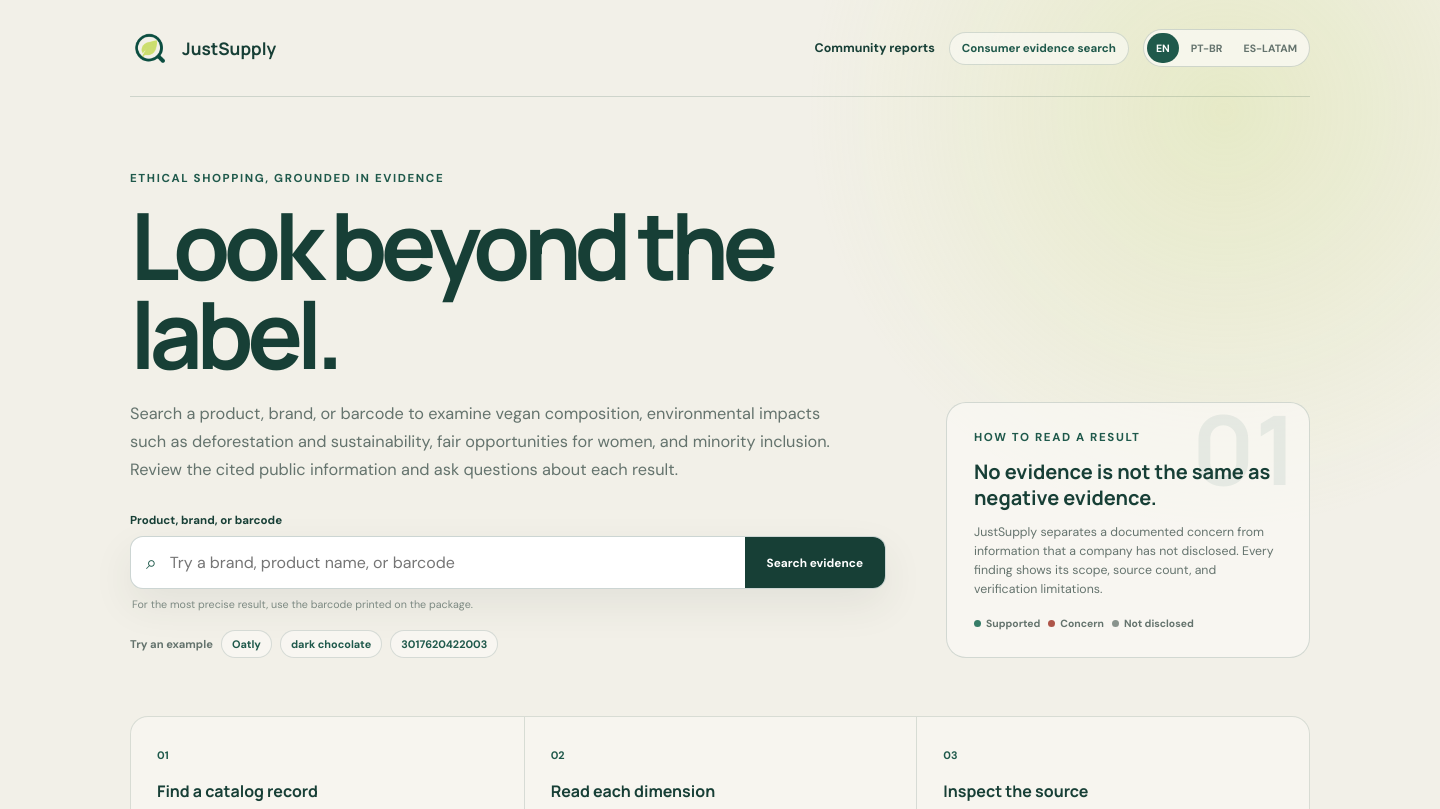
Test case: consumer evidence experience › switches the complete interface to Brazilian Portuguese and Latin American Spanish
Click the button "PT-BR".
click(1207, 48)  # box [1182, 33, 1232, 63]
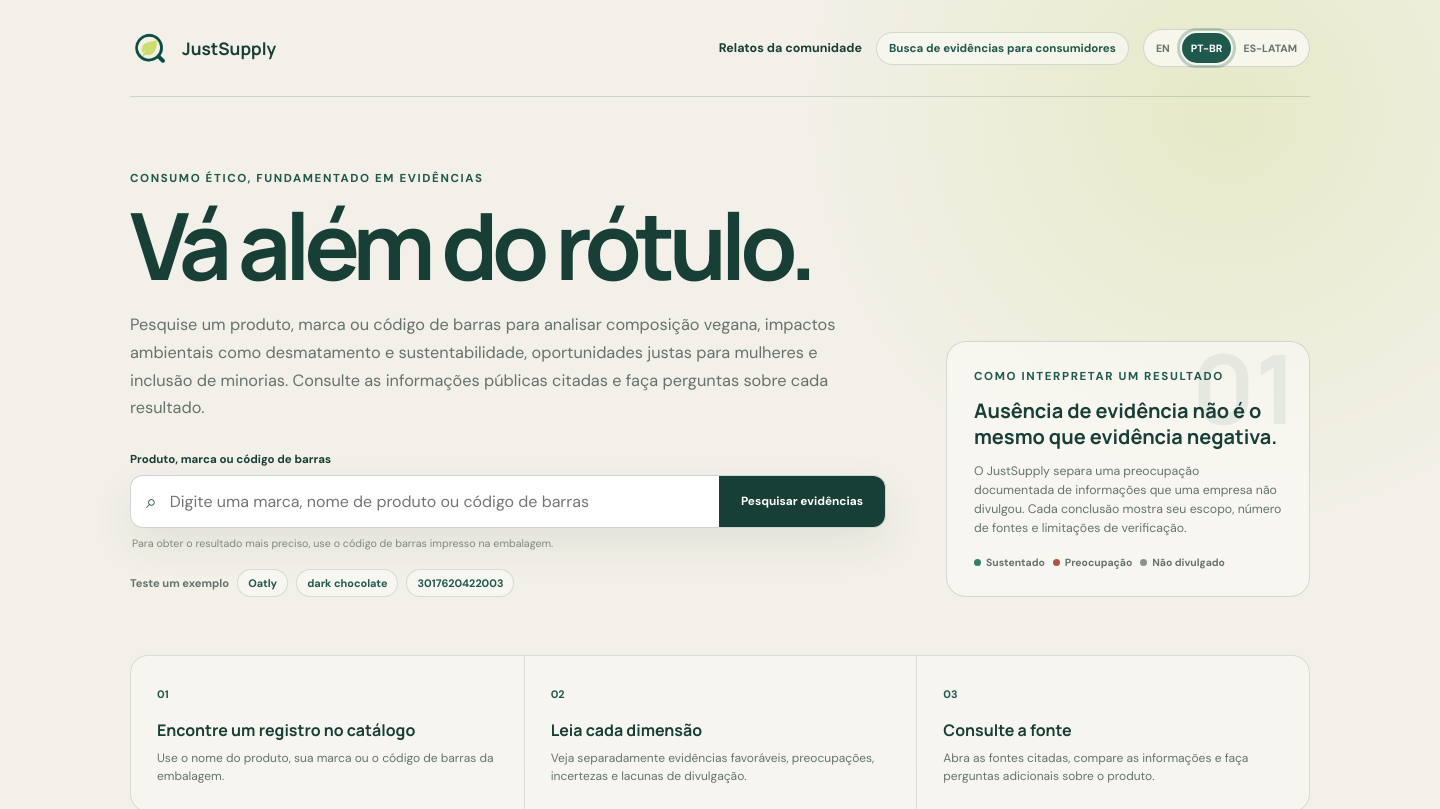
Expected: the field labelled "Produto, marca ou código de barras" is shown, [157, 476, 719, 527]
Result: the heading "Vá além do rótulo." is shown at [130, 200, 870, 289]
Click the button "ES-LATAM".
click(1270, 48)  # box [1234, 33, 1306, 63]
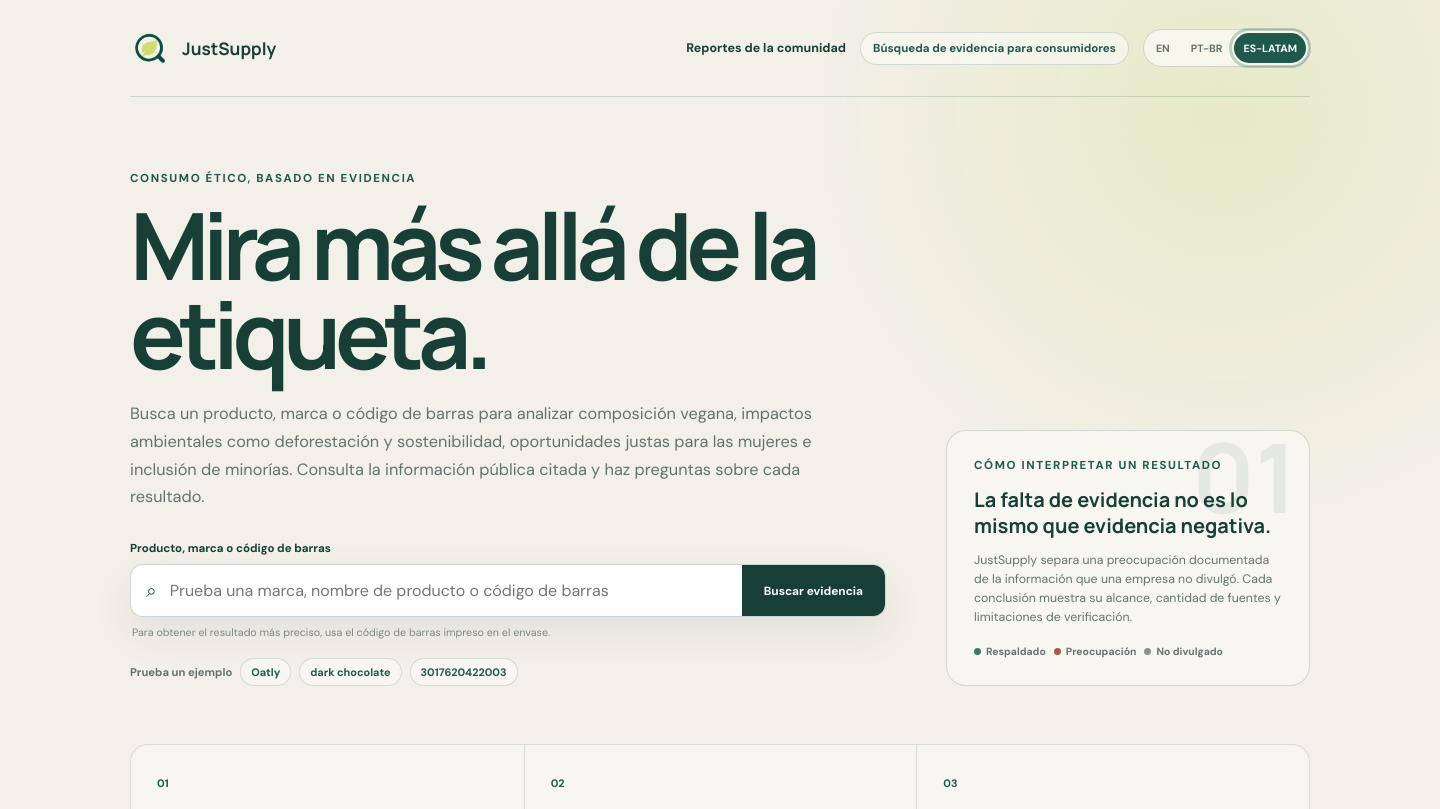
Expected: the field labelled "Producto, marca o código de barras" is shown, [157, 565, 742, 616]
Result: the heading "Mira más allá de la etiqueta." is shown at [130, 200, 870, 378]
